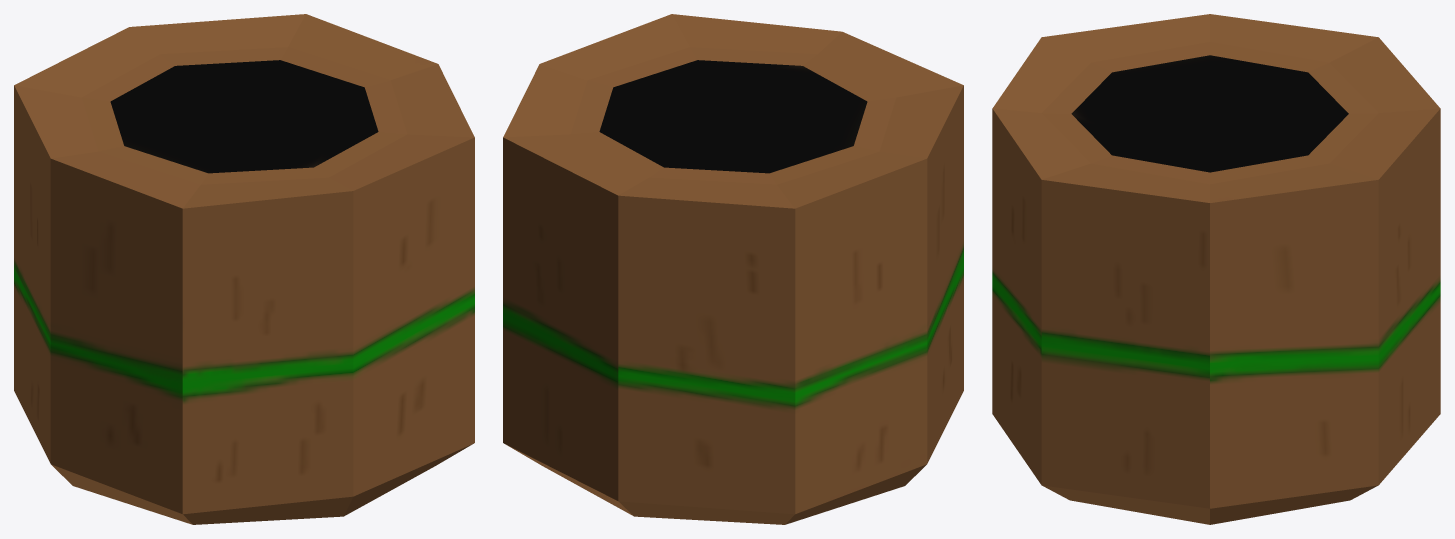
Rendered from pipe1.fbx.
3 renders of one model, left to right at view 1: azimuth 30°, elevation 25°; view 2: azimuth 150°, elevation 25°; view 3: azimuth 270°, elevation 25°, orthographic.
Visible parts, largest first — view 1: Torus; view 2: Torus; view 3: Torus.
Part boxes in pixels (x1,y1,x2,y2): Torus: (14,14,474,524); Torus: (503,14,963,524); Torus: (992,14,1440,524).
Size of the model in its own units: 265 by 225 by 266.
1 material, 1 textured.
